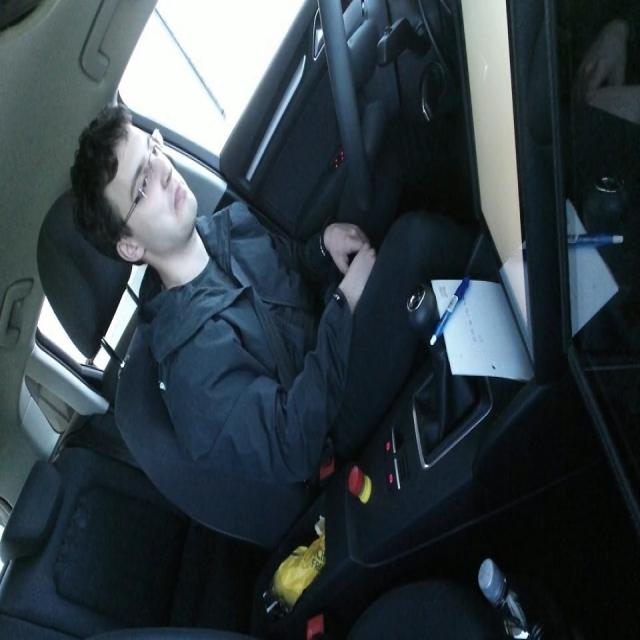pen: (426, 269, 475, 349)
